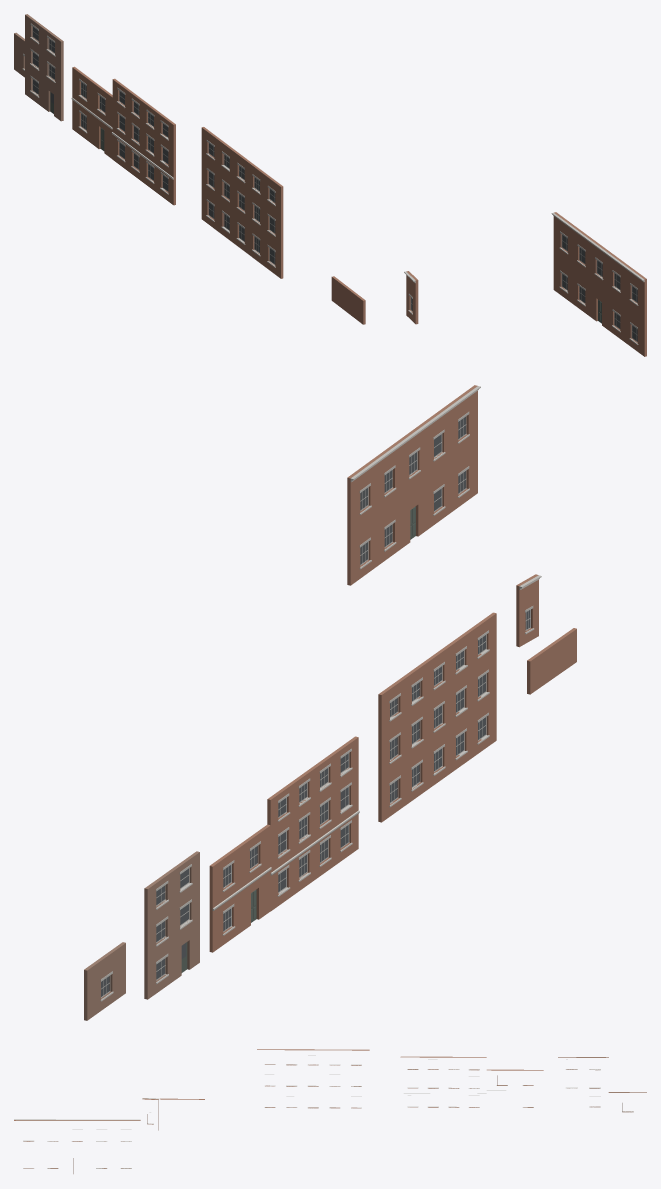
The picture shows the model from 3 angles, top to bottom: view 1: azimuth 30°, elevation 25°; view 2: azimuth 150°, elevation 25°; view 3: azimuth 270°, elevation 25°; orthographic projection. The views are drawn at different scales.
Visible parts, largest first — view 1: f:way/161909716, f:way/161909715, f:way/161909710, f:way/161909714; view 2: f:way/161909716, f:way/161909715, f:way/161909710, f:way/161909714; view 3: f:way/161909715, f:way/161909716, f:way/161909710, f:way/161909714.
Part boxes in pixels (<box>): f:way/161909716: <box>331,212,646,356</box>; f:way/161909715: <box>71,66,175,205</box>; f:way/161909710: <box>201,127,283,278</box>; f:way/161909714: <box>14,14,63,121</box>; f:way/161909716: <box>347,385,576,694</box>; f:way/161909715: <box>209,736,359,952</box>; f:way/161909710: <box>378,612,496,822</box>; f:way/161909714: <box>84,851,199,1020</box>; f:way/161909715: <box>400,1056,543,1107</box>; f:way/161909716: <box>14,1098,204,1173</box>; f:way/161909710: <box>257,1049,369,1108</box>; f:way/161909714: <box>558,1057,646,1112</box>.
Bounding box in the file's own units: 20.34 × 9.22 × 81.92.
